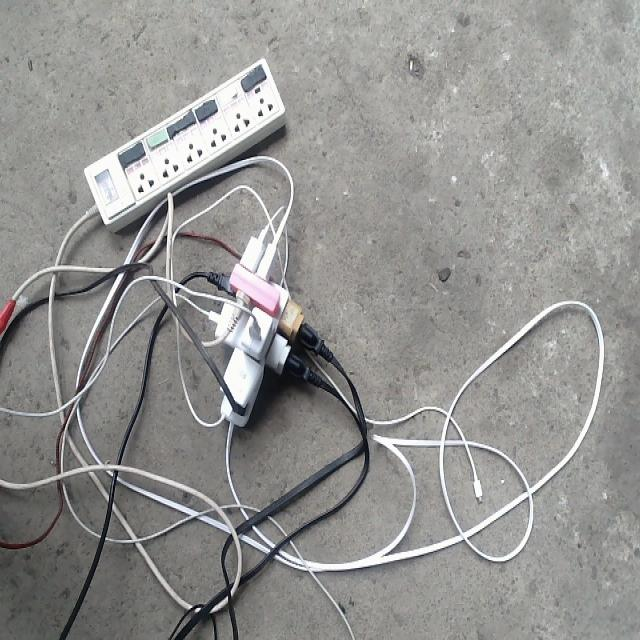-: (198, 240, 313, 425)
